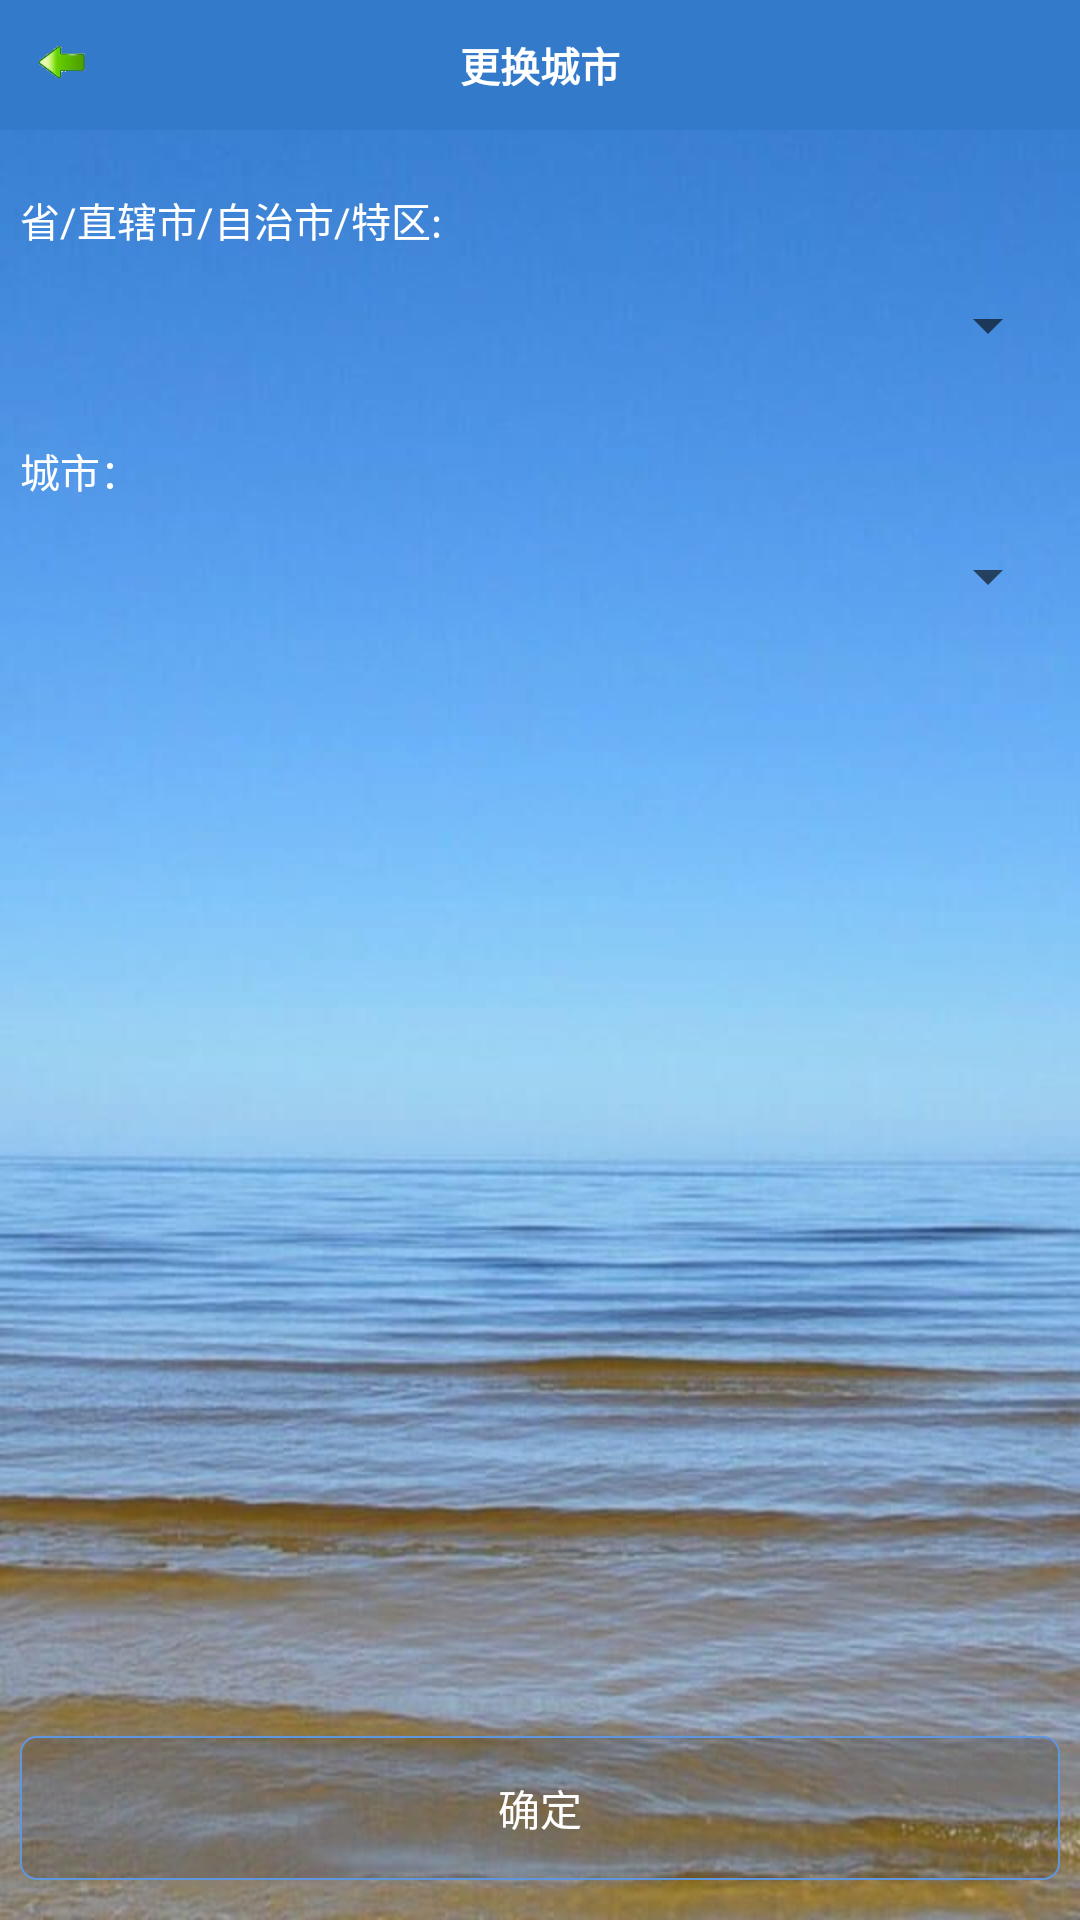

Icon click points for this 1080×1920 phone screenshot, format [x,y]:
back: [62,62]
